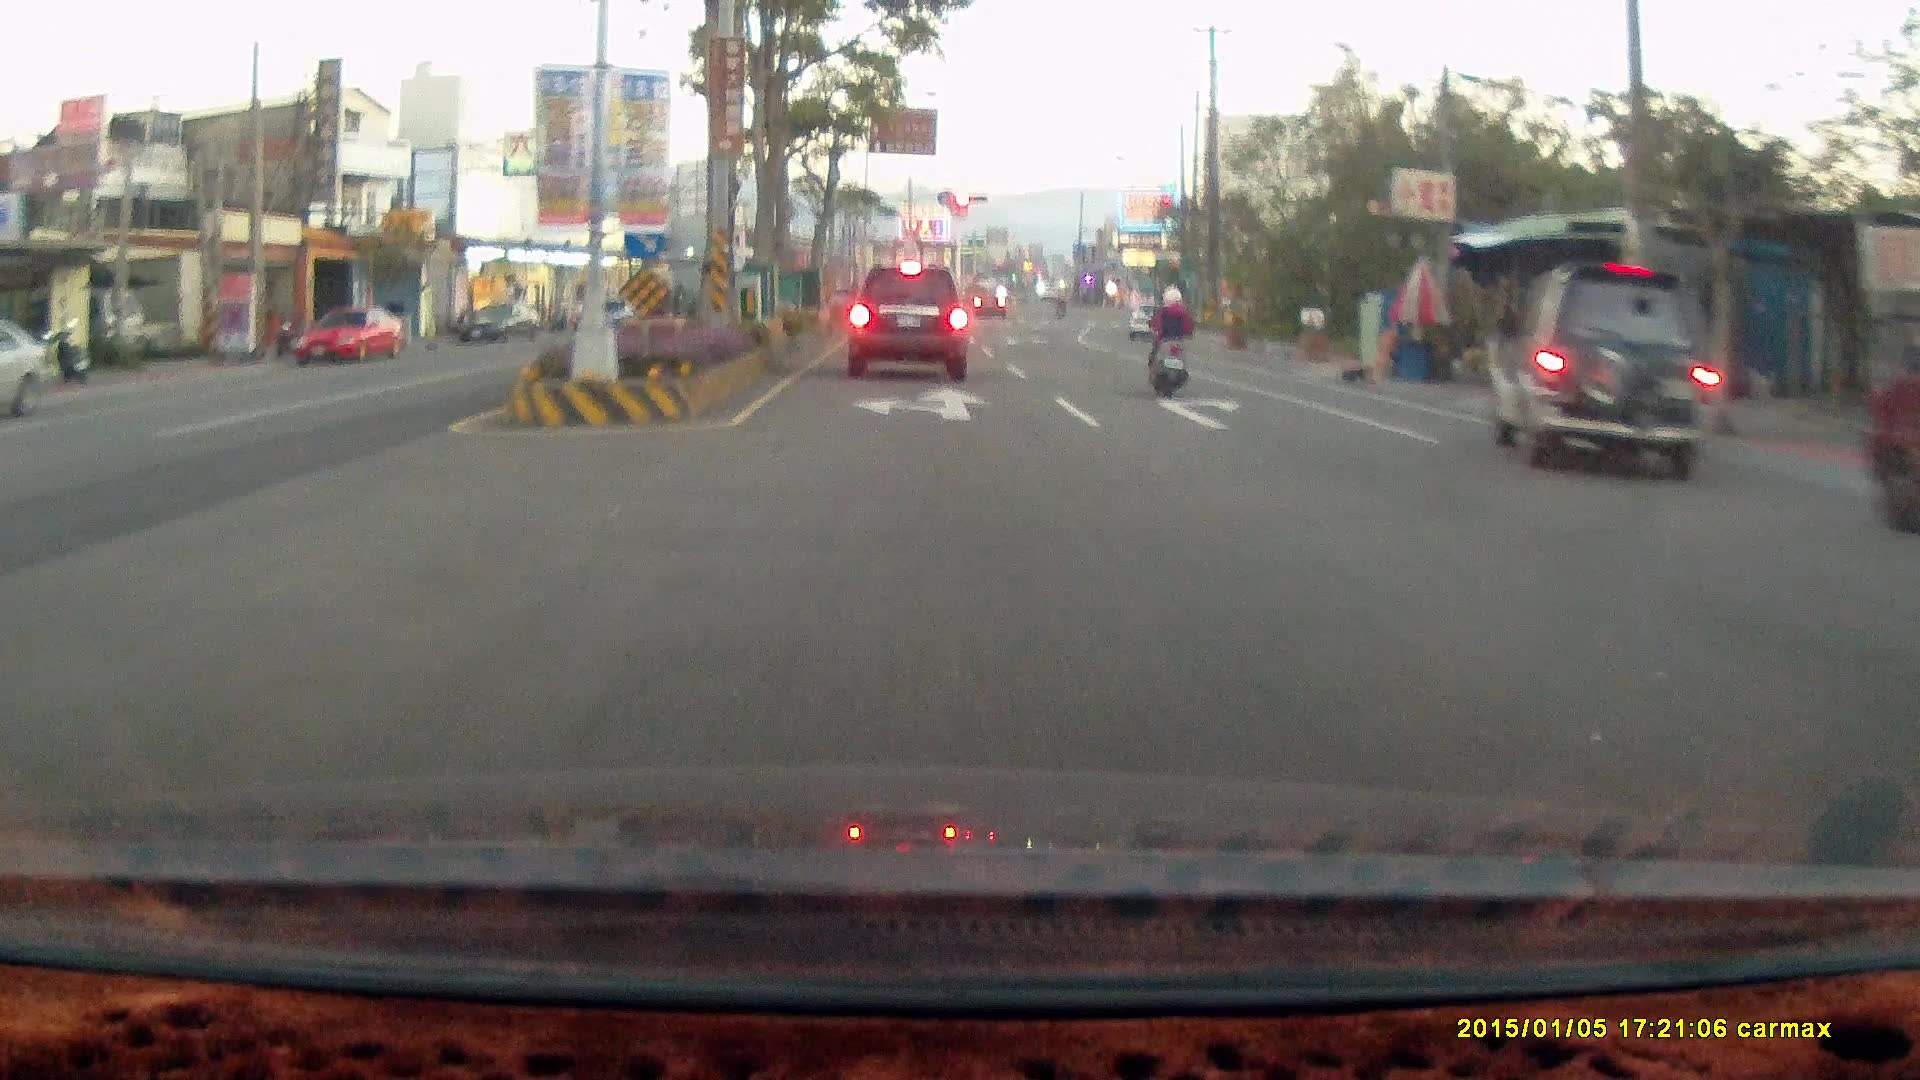rider: (1143, 284, 1193, 398)
vehicle: (1483, 260, 1722, 481), (1490, 263, 1724, 479), (844, 264, 966, 380), (1861, 336, 1920, 530), (1896, 493, 1920, 836), (291, 301, 408, 367), (290, 303, 405, 365), (1883, 528, 1920, 690), (1, 319, 57, 420), (464, 301, 544, 352), (1128, 302, 1183, 341)
